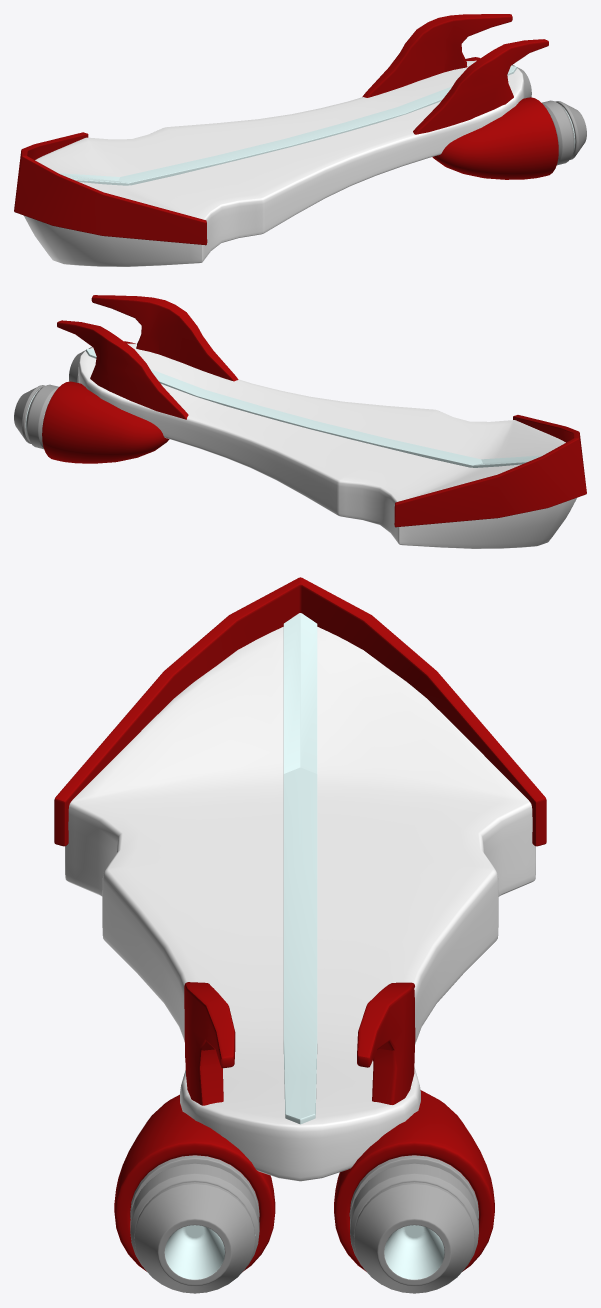
Rendered from HoverBoard04(1).fbx.
The picture shows the model from 3 angles, top to bottom: view 1: azimuth 30°, elevation 25°; view 2: azimuth 150°, elevation 25°; view 3: azimuth 270°, elevation 25°; orthographic projection. The views are drawn at different scales.
Parts seen in each view (by area): view 1: BoardMain, Fins, FrontBarrier, ThrusterCovers, EmissionStrip, Thrusters; view 2: BoardMain, Fins, FrontBarrier, ThrusterCovers, EmissionStrip, Thrusters; view 3: BoardMain, Thrusters, FrontBarrier, EmissionStrip, ThrusterCovers, Fins.
Part boxes in pixels (bbox=[...]): BoardMain: bbox=[24, 60, 524, 266]; Fins: bbox=[362, 14, 548, 134]; FrontBarrier: bbox=[14, 132, 207, 245]; ThrusterCovers: bbox=[432, 57, 558, 179]; EmissionStrip: bbox=[58, 66, 516, 185]; Thrusters: bbox=[512, 64, 586, 165]; BoardMain: bbox=[78, 343, 576, 548]; Fins: bbox=[57, 295, 238, 419]; FrontBarrier: bbox=[394, 415, 586, 527]; ThrusterCovers: bbox=[42, 341, 169, 463]; EmissionStrip: bbox=[86, 349, 542, 467]; Thrusters: bbox=[14, 347, 92, 449]; BoardMain: bbox=[65, 627, 535, 1181]; Thrusters: bbox=[130, 1155, 478, 1293]; FrontBarrier: bbox=[54, 577, 546, 846]; EmissionStrip: bbox=[283, 613, 317, 1124]; ThrusterCovers: bbox=[114, 1090, 494, 1271]; Fins: bbox=[184, 982, 415, 1105].
Bounding box in the file's own units: 0.7795 × 0.1798 × 0.3104.
